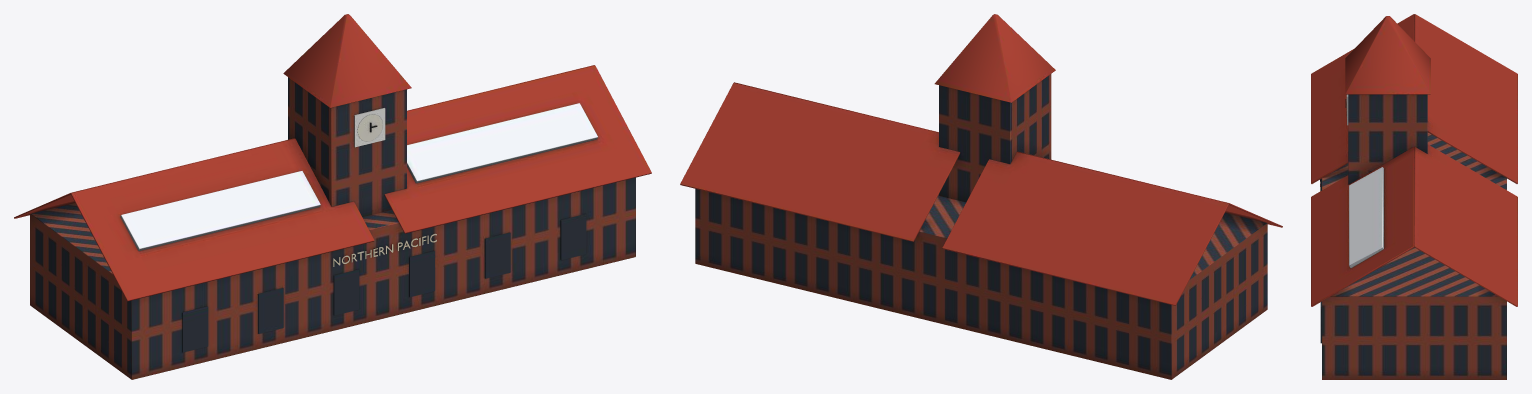
The model's file is np_depot.glb.
The picture shows the model from 3 angles, left to right: view 1: azimuth 30°, elevation 25°; view 2: azimuth 150°, elevation 25°; view 3: azimuth 270°, elevation 25°; orthographic projection. The views are drawn at different scales.
Parts seen in each view (by area): view 1: np_depot; view 2: np_depot; view 3: np_depot.
Boxes of the visible parts, left/top/right/bottom form: np_depot: left=14, top=14, right=651, bottom=379; np_depot: left=680, top=14, right=1282, bottom=379; np_depot: left=1311, top=14, right=1517, bottom=379.
Size of the model in its own units: 41.6 by 21 by 15.64.
Materials: 1 (1 with a texture image).
